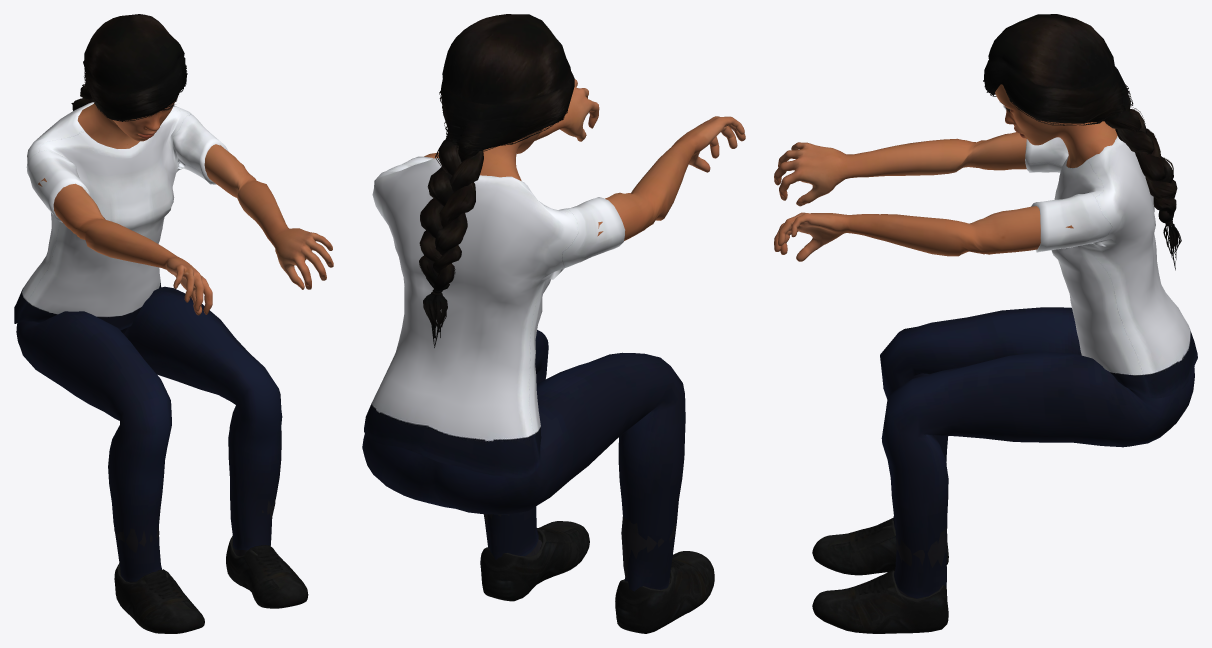
Rendered from g1_sit_build.glb.
The picture shows the model from 3 angles, left to right: view 1: azimuth 30°, elevation 25°; view 2: azimuth 150°, elevation 25°; view 3: azimuth 270°, elevation 25°; orthographic projection. The views are drawn at different scales.
Visible parts, largest first — view 1: g1.female_casualsuit01, g1, g1.braid01, g1.shoes02; view 2: g1.female_casualsuit01, g1.braid01, g1.shoes02, g1; view 3: g1.female_casualsuit01, g1, g1.braid01, g1.shoes02.
Boxes of the visible parts, box(x1,y1,x2,y2) form: g1.female_casualsuit01: box(14, 102, 282, 581); g1: box(38, 99, 333, 315); g1.braid01: box(71, 14, 187, 121); g1.shoes02: box(114, 497, 308, 633); g1.female_casualsuit01: box(362, 156, 685, 591); g1.braid01: box(419, 14, 574, 347); g1.shoes02: box(480, 514, 714, 633); g1: box(424, 79, 745, 240); g1.female_casualsuit01: box(880, 136, 1197, 598); g1: box(774, 84, 1117, 261); g1.braid01: box(983, 14, 1181, 270); g1.shoes02: box(812, 463, 948, 633).
Size of the model in its own units: 0.3966 by 1.1 by 0.7292.
7 materials, 7 textured.
